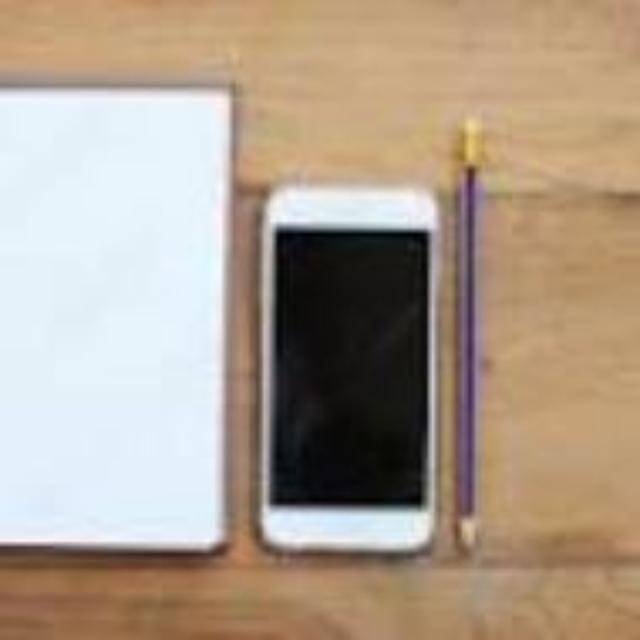phone: (256, 193, 439, 561)
